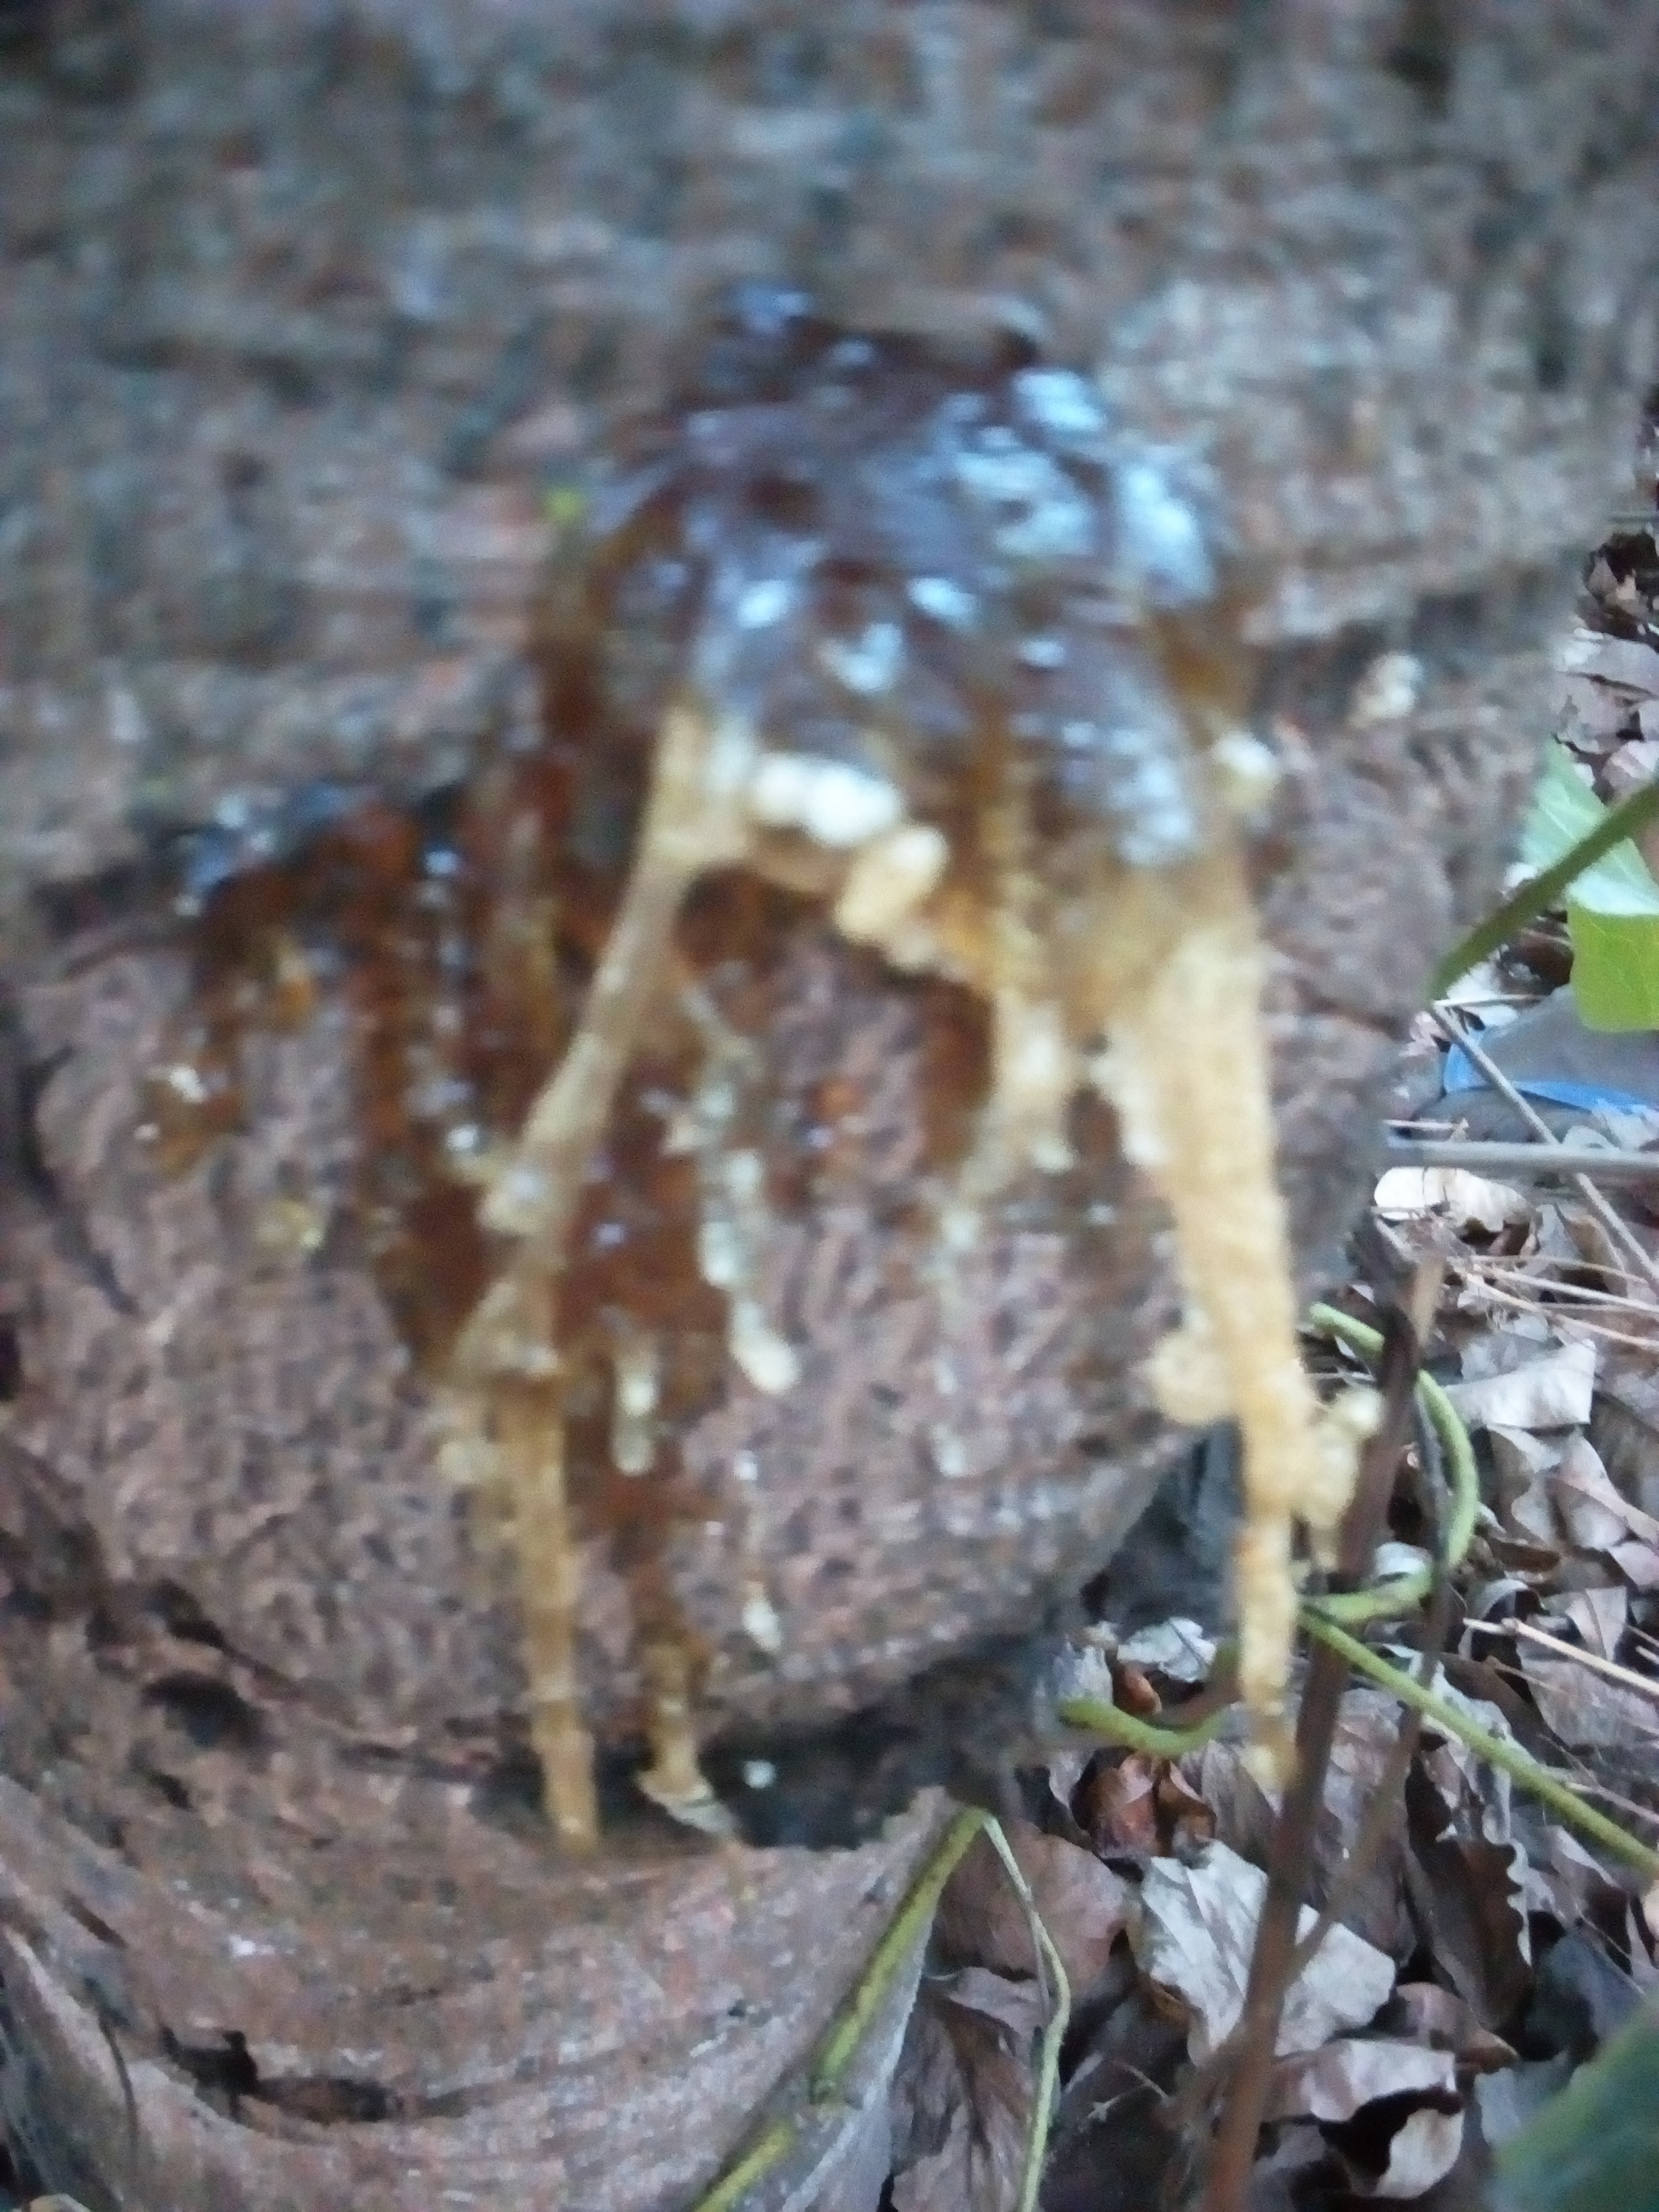Gommose: (240, 415, 1328, 1784)
